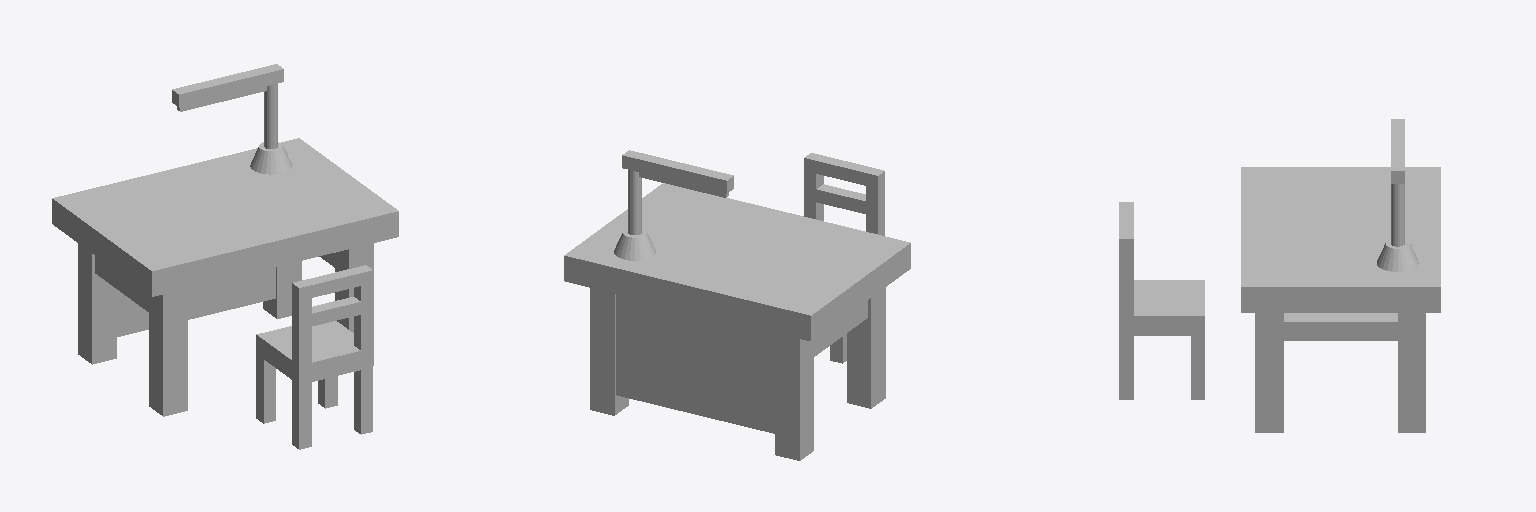
3 renders of one model, left to right at view 1: azimuth 30°, elevation 25°; view 2: azimuth 150°, elevation 25°; view 3: azimuth 270°, elevation 25°, orthographic.
Parts seen in each view (by area): view 1: desk, deskLeg1, chair, front1, deskLeg2, stand, back3, chairLeg4, back1, deskLeg4, chairLeg1, deskLeg3 (+7 smaller); view 2: desk, front1, deskLeg2, deskLeg1, deskLeg3, stand, back3, back4, left, Cone001, Cylinder001, back1 (+1 smaller); view 3: desk, chair, deskLeg4, deskLeg3, right, chairLeg2, back2, Cone001, stand, chairLeg3, Cylinder001, back3.
Boxes of the visible parts, box(x1,y1,x2,y2) form: desk: box(52, 138, 398, 296); deskLeg1: box(149, 289, 187, 416); chair: box(256, 321, 372, 384); front1: box(117, 267, 275, 336); deskLeg2: box(78, 243, 116, 364); stand: box(172, 64, 283, 107); back3: box(292, 265, 372, 300); chairLeg4: box(292, 380, 311, 449); back1: box(292, 296, 311, 365); deskLeg4: box(335, 243, 373, 365); chairLeg1: box(256, 354, 275, 423); deskLeg3: box(263, 261, 301, 318); desk: box(564, 183, 910, 341); front1: box(616, 294, 774, 433); deskLeg2: box(775, 333, 813, 460); deskLeg1: box(847, 287, 885, 408); deskLeg3: box(590, 288, 628, 415); stand: box(622, 150, 733, 193); back3: box(804, 153, 884, 188); back4: box(804, 184, 884, 216); left: box(814, 301, 867, 356); Cone001: box(614, 228, 655, 260); Cylinder001: box(628, 170, 641, 234); back1: box(866, 184, 884, 235); desk: box(1241, 167, 1440, 312); chair: box(1119, 280, 1204, 335); deskLeg4: box(1255, 313, 1283, 432); deskLeg3: box(1398, 313, 1425, 432); right: box(1284, 313, 1397, 340); chairLeg2: box(1119, 336, 1133, 399); back2: box(1119, 251, 1133, 315); Cone001: box(1377, 240, 1418, 271); stand: box(1391, 119, 1404, 183); chairLeg3: box(1191, 336, 1204, 399); Cylinder001: box(1391, 184, 1404, 246); back3: box(1119, 202, 1133, 250).
Bounding box in the file's own units: 40 × 39 × 45.